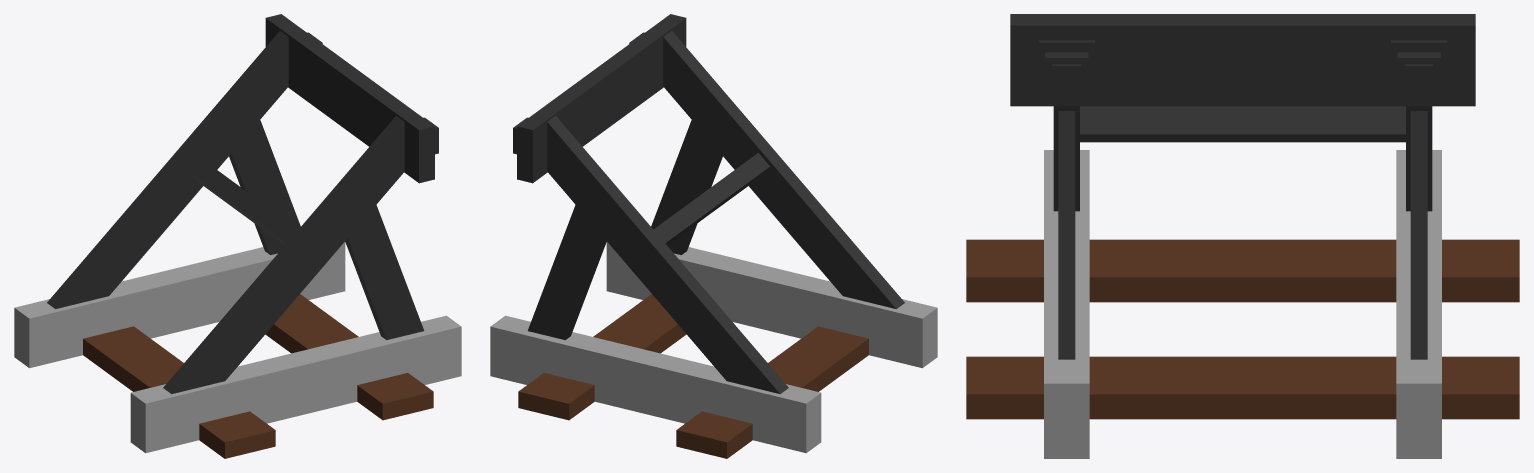
File: Track_Terminus.fbx
3 views of the same model, side by side, from view 1: azimuth 30°, elevation 25°; view 2: azimuth 150°, elevation 25°; view 3: azimuth 270°, elevation 25° (orthographic). The views are drawn at different scales.
Parts seen in each view (by area): view 1: Track_Terminus; view 2: Track_Terminus; view 3: Track_Terminus.
Boxes of the visible parts, bbox=[...] form: Track_Terminus: bbox=[14, 14, 461, 458]; Track_Terminus: bbox=[490, 14, 937, 458]; Track_Terminus: bbox=[966, 14, 1519, 458].
Size of the model in its own units: 100 by 80.82 by 100.
